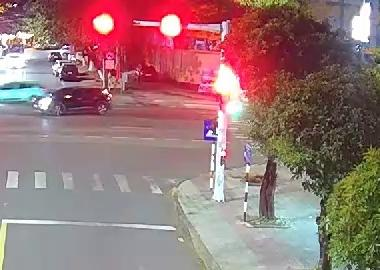red_light: (214, 60, 240, 115), (150, 13, 186, 39), (93, 12, 117, 35)
stop_line: (2, 215, 189, 233)
